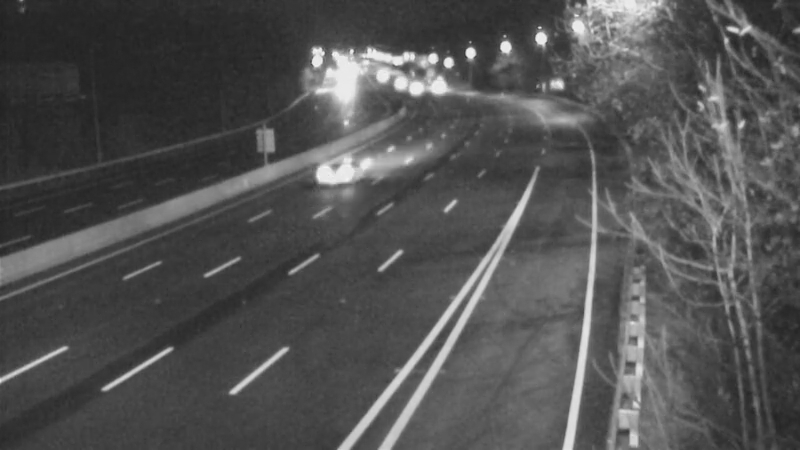vehicle: (299, 137, 379, 217), (356, 51, 406, 101), (374, 54, 424, 104), (387, 63, 437, 113), (411, 63, 461, 113)
